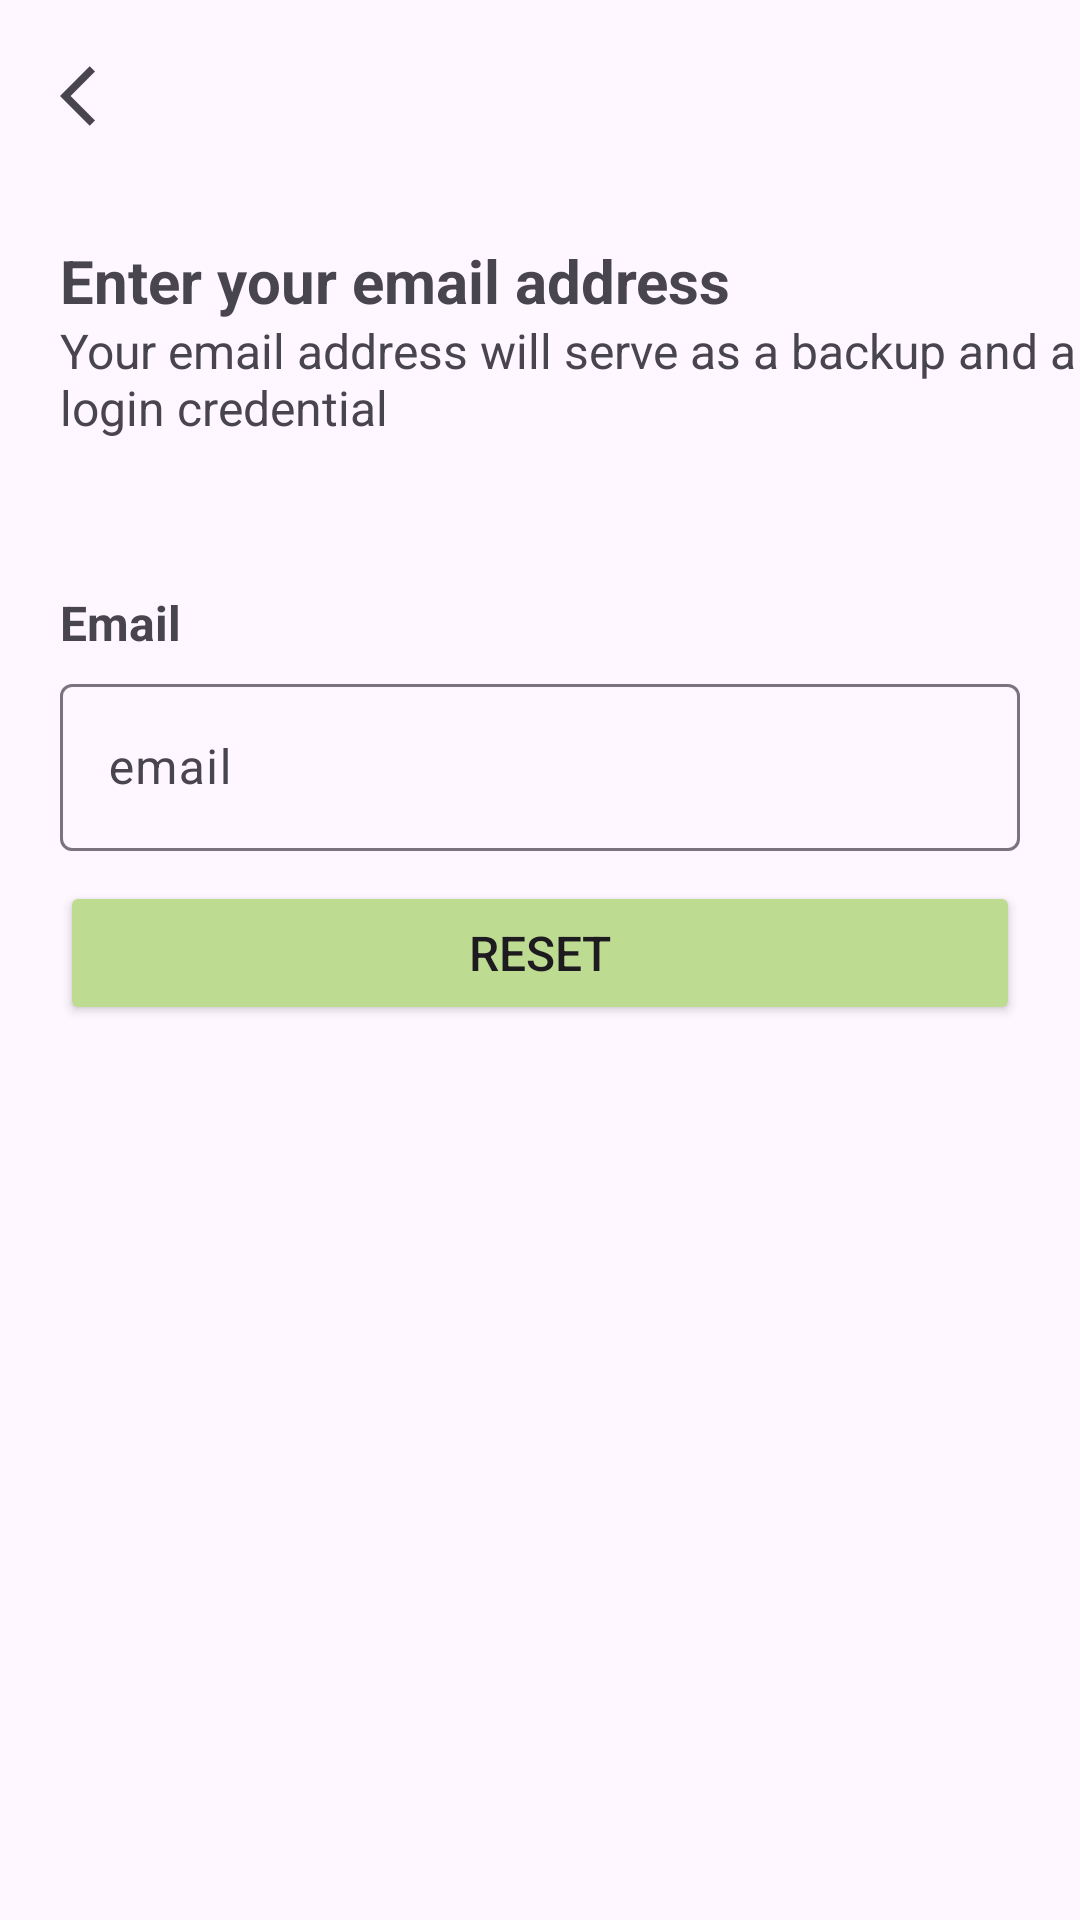

Icon click points for this 1080 x 1920 phone screenshot, format (x=x, y=y):
arrow back: (x=77, y=96)
